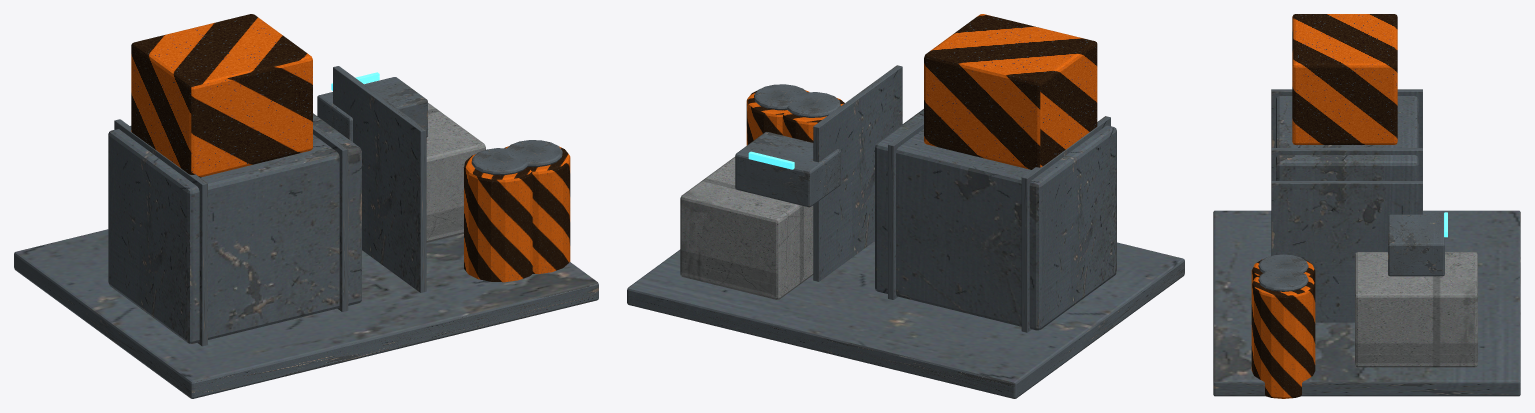
File: cargo_service_cluster.glb
3 renders of one model, left to right at view 1: azimuth 30°, elevation 25°; view 2: azimuth 150°, elevation 25°; view 3: azimuth 270°, elevation 25°, orthographic. The views are drawn at different scales.
Visible parts, largest first — view 1: CargoCrateLarge, CargoPallet, CargoCrateTop, CargoStrap_0.56, CargoDrum_1.32, CargoCrateSmall, CargoDrum_1.62, CargoScannerCase, CargoStrap_-1.42, CargoStrap_-0.15, CargoDrumCap_1.62, CargoDrumCap_1.32; view 2: CargoCrateLarge, CargoPallet, CargoCrateTop, CargoCrateSmall, CargoStrap_0.56, CargoScannerCase, CargoStrap_-1.42, CargoStrap_-0.15, CargoDrum_1.62, CargoDrumCap_1.32, CargoDrumCap_1.62, CargoDrum_1.32; view 3: CargoPallet, CargoCrateTop, CargoCrateSmall, CargoStrap_0.56, CargoDrum_1.62, CargoCrateLarge, CargoScannerCase, CargoStrap_-0.15, CargoDrumCap_1.62, CargoStrap_-1.42, CargoDrumCap_1.32, CargoDrum_1.32.
Part boxes in pixels (x1,y1,x2,y2): CargoCrateLarge: [108, 113, 361, 343]; CargoPallet: [14, 229, 598, 398]; CargoCrateTop: [131, 14, 312, 177]; CargoStrap_0.56: [333, 66, 426, 292]; CargoDrum_1.32: [464, 154, 532, 282]; CargoCrateSmall: [426, 103, 485, 242]; CargoDrum_1.62: [504, 146, 570, 274]; CargoScannerCase: [317, 77, 427, 141]; CargoStrap_-1.42: [114, 119, 207, 346]; CargoStrap_-0.15: [313, 123, 348, 311]; CargoDrumCap_1.62: [507, 140, 562, 167]; CargoDrumCap_1.32: [471, 148, 527, 175]; CargoCrateLarge: [875, 109, 1116, 330]; CargoPallet: [627, 241, 1184, 398]; CargoCrateTop: [924, 14, 1097, 169]; CargoCrateSmall: [680, 156, 813, 299]; CargoStrap_0.56: [813, 65, 902, 281]; CargoScannerCase: [735, 132, 840, 207]; CargoStrap_-1.42: [1021, 116, 1110, 332]; CargoStrap_-0.15: [888, 118, 923, 299]; CargoDrum_1.62: [746, 90, 809, 145]; CargoDrumCap_1.32: [787, 92, 840, 117]; CargoDrumCap_1.62: [754, 84, 806, 110]; CargoDrum_1.32: [782, 98, 844, 142]; CargoPallet: [1213, 210, 1520, 396]; CargoCrateTop: [1292, 14, 1397, 144]; CargoCrateSmall: [1355, 252, 1477, 367]; CargoStrap_0.56: [1271, 181, 1422, 322]; CargoDrum_1.62: [1251, 275, 1315, 398]; CargoCrateLarge: [1276, 96, 1418, 180]; CargoScannerCase: [1388, 211, 1444, 276]; CargoStrap_-0.15: [1271, 148, 1422, 180]; CargoDrumCap_1.62: [1258, 268, 1308, 291]; CargoStrap_-1.42: [1271, 89, 1422, 147]; CargoDrumCap_1.32: [1258, 254, 1308, 273]; CargoDrum_1.32: [1251, 259, 1315, 283].
Bounding box in the file's own units: 3.76 × 2.33 × 2.8.
Materials: 5 (5 with a texture image).
